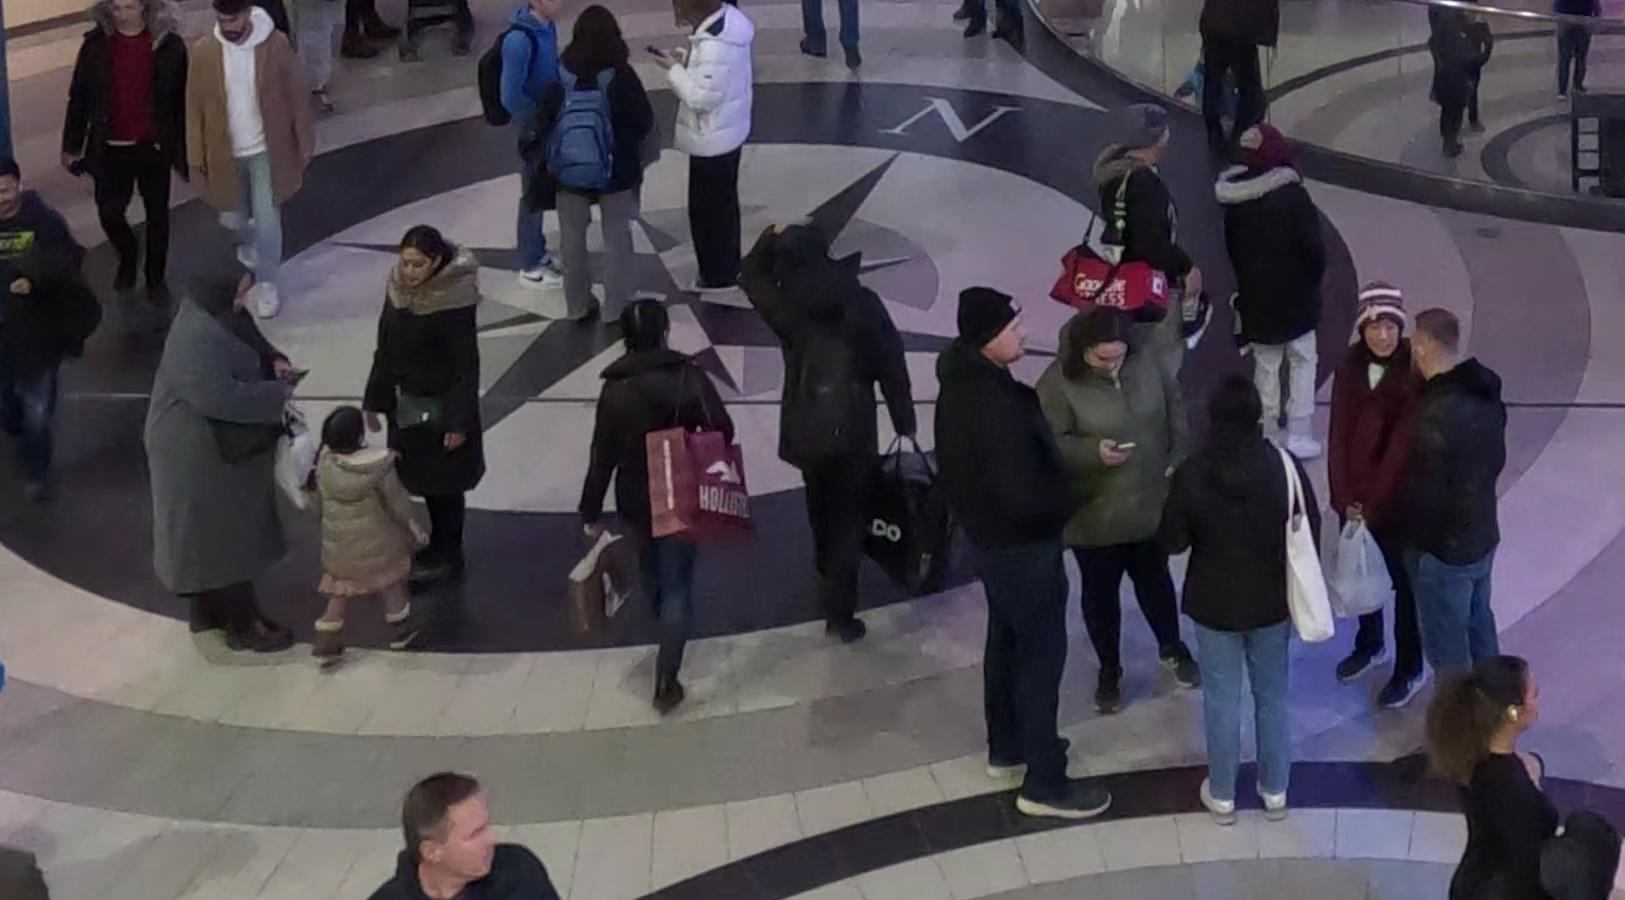person: (944, 287, 1103, 821), (133, 263, 297, 676), (1155, 375, 1299, 832), (592, 299, 734, 727), (1390, 308, 1516, 782), (359, 227, 490, 651), (73, 1, 195, 324), (1422, 650, 1576, 900), (331, 762, 590, 898), (1, 158, 87, 530), (663, 1, 762, 314)
